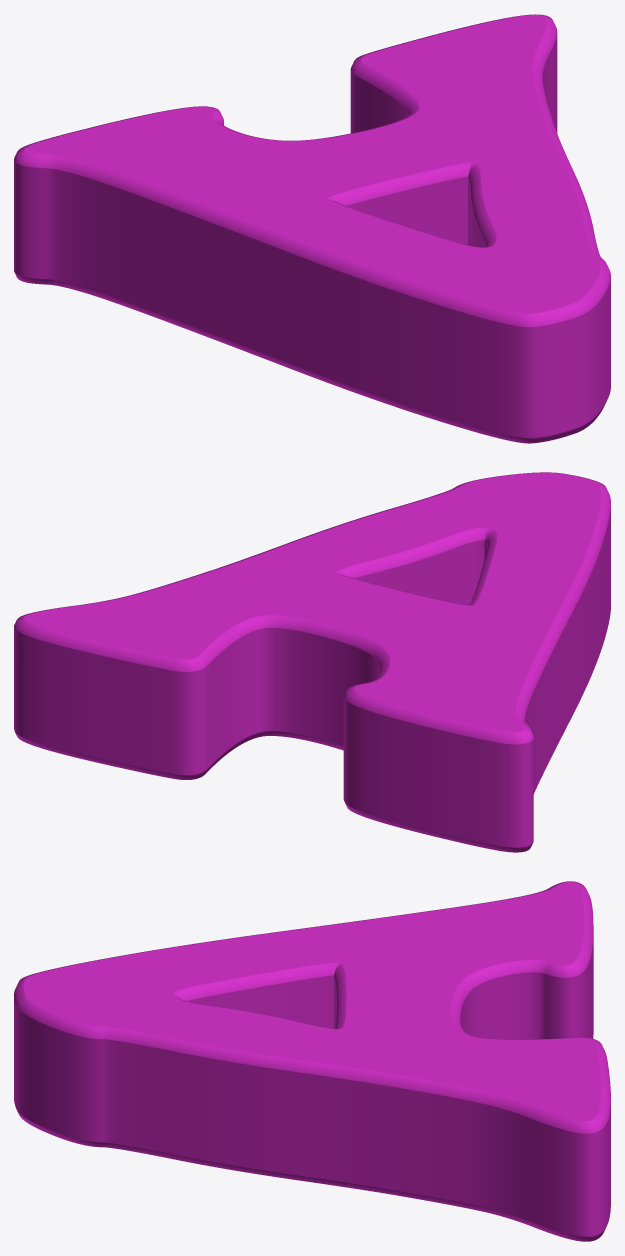
The model's file is Bubble_LetterA.fbx.
3 views of the same model, one above another, from view 1: azimuth 30°, elevation 25°; view 2: azimuth 150°, elevation 25°; view 3: azimuth 270°, elevation 25° (orthographic). The views are drawn at different scales.
Visible parts, largest first — view 1: BubbleLetter_A; view 2: BubbleLetter_A; view 3: BubbleLetter_A.
Boxes of the visible parts, box(x1,y1,x2,y2) form: BubbleLetter_A: box(14, 14, 610, 443); BubbleLetter_A: box(14, 472, 610, 852); BubbleLetter_A: box(14, 881, 610, 1241).
Size of the model in its own units: 0.6173 by 0.14 by 0.6292.
